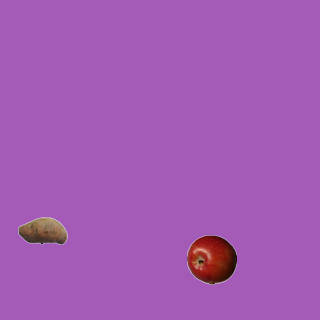Apple Braeburn: (186, 234, 236, 284)
Potato Sweet: (17, 205, 67, 255)
